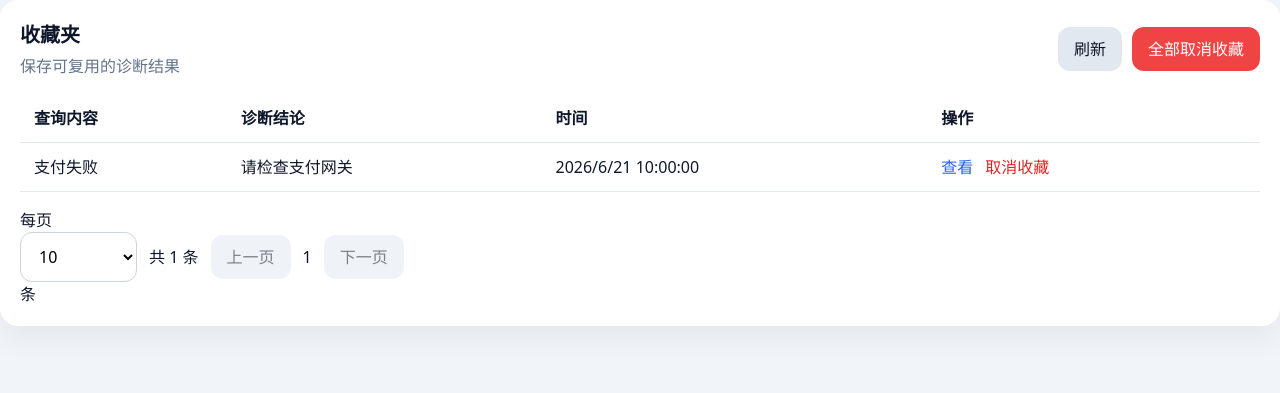
HistoryPage › 单条删除失败时保留原列表并显示错误提示
This screenshot has width=1280, height=393.
Check: the text "支付失败" is shown, box x1=20 y1=142 x2=227 y2=192
Click the button "取消收藏" at (1017,167), box x1=985 y1=155 x2=1049 y2=179
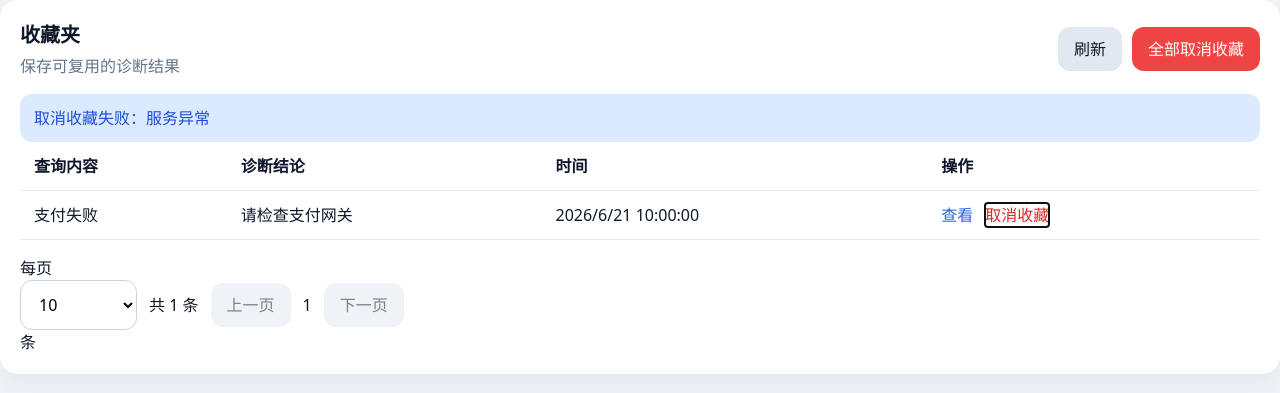
Check: the text "支付失败" is shown, box x1=20 y1=190 x2=227 y2=240
Check: the text "取消收藏失败：服务异常" is shown, box x1=20 y1=94 x2=1260 y2=142
